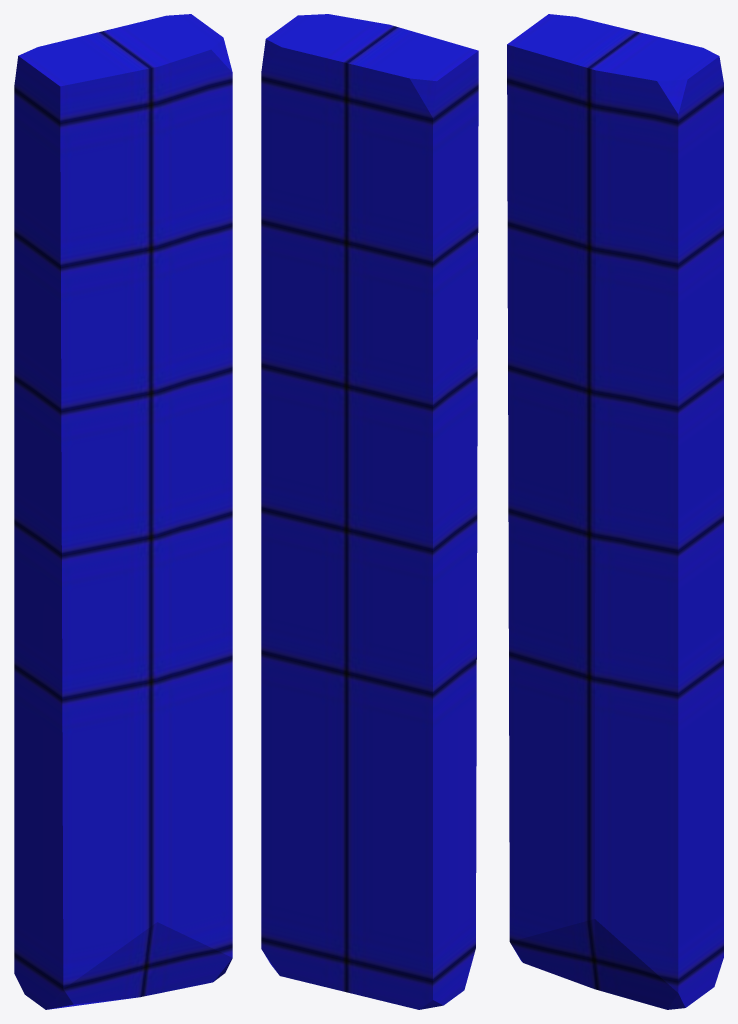
The model's file is railtie02.glb.
The picture shows the model from 3 angles, left to right: view 1: azimuth 30°, elevation 25°; view 2: azimuth 150°, elevation 25°; view 3: azimuth 330°, elevation 25°; orthographic projection.
Bounding box in the file's own units: 14.15 × 73.41 × 7.15.
Materials: 1 (1 with a texture image).
